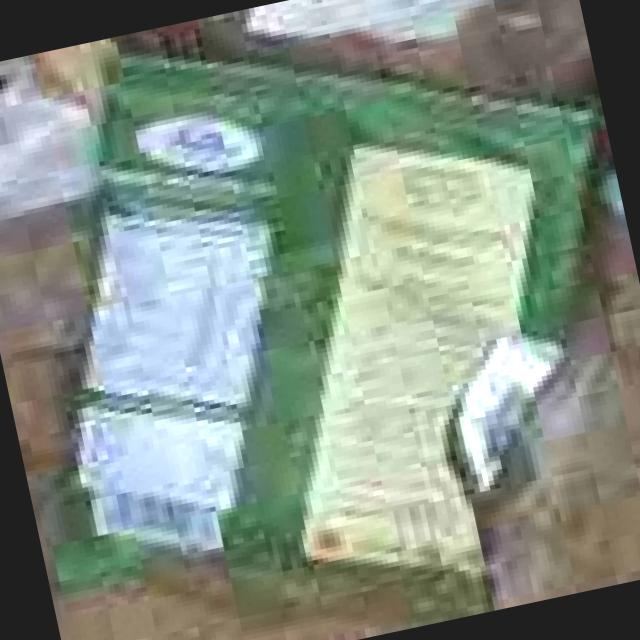giay_goi: (58, 62, 599, 624)
